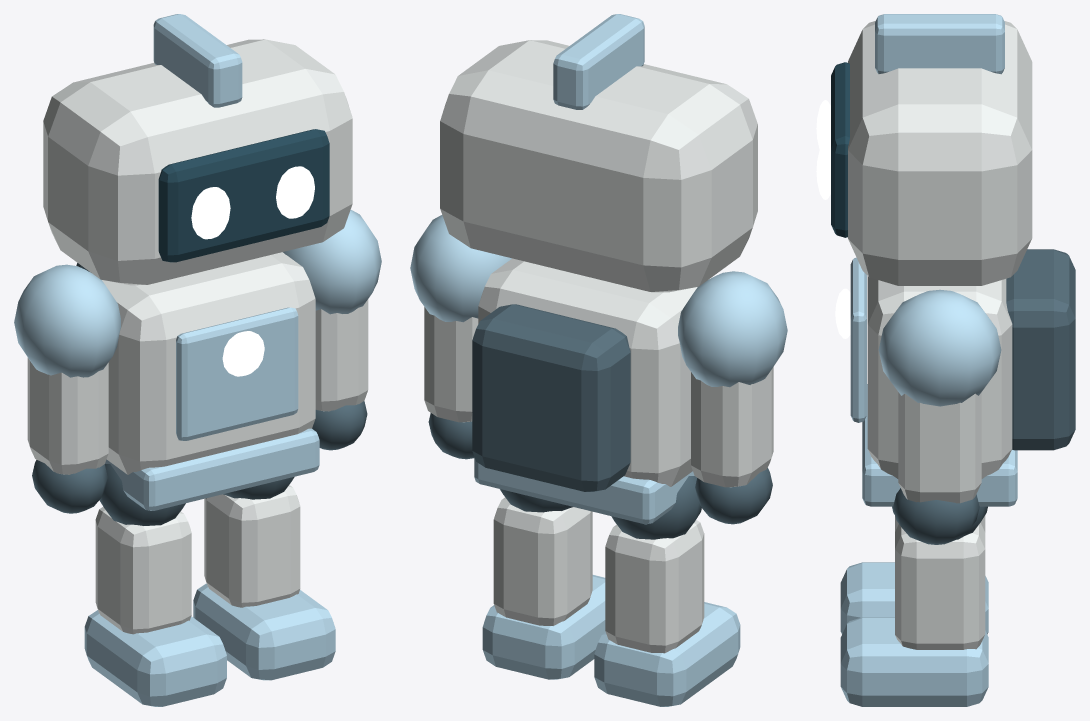
Rendered from echo.glb.
3 renders of one model, left to right at view 1: azimuth 30°, elevation 25°; view 2: azimuth 150°, elevation 25°; view 3: azimuth 270°, elevation 25°, orthographic. The views are drawn at different scales.
Parts seen in each view (by area): view 1: Head, Torso, Visor, Chest plate, Leg.005, Leg, Boot.005, Shoulder.005, Boot, Belt, Arm.005, Shoulder (+9 smaller); view 2: Head, Pack, Torso, Leg.005, Leg, Shoulder.005, Boot.005, Arm.005, Boot, Shoulder, Crest, Belt (+5 smaller); view 3: Head, Pack, Shoulder, Torso, Boot, Leg, Arm, Crest, Belt, Boot.005, Hand, Visor (+4 smaller).
Boxes of the visible parts, <box> form: Head: <box>43,39,352,285</box>; Torso: <box>102,252,315,474</box>; Visor: <box>158,129,329,262</box>; Chest plate: <box>176,307,298,440</box>; Leg.005: <box>95,507,191,634</box>; Leg: <box>204,485,300,607</box>; Boot.005: <box>84,610,226,706</box>; Shoulder.005: <box>14,264,120,377</box>; Boot: <box>193,583,335,680</box>; Belt: <box>105,428,319,510</box>; Arm.005: <box>27,357,108,474</box>; Shoulder: <box>283,210,381,314</box>; Head: <box>440,40,757,292</box>; Pack: <box>472,304,630,491</box>; Torso: <box>478,258,697,486</box>; Leg.005: <box>605,520,704,653</box>; Leg: <box>493,497,592,625</box>; Shoulder.005: <box>678,271,787,387</box>; Boot.005: <box>594,602,740,706</box>; Arm.005: <box>691,367,773,487</box>; Boot: <box>482,575,605,679</box>; Shoulder: <box>410,215,511,322</box>; Crest: <box>553,14,644,109</box>; Belt: <box>474,457,694,524</box>; Head: <box>848,21,1032,285</box>; Pack: <box>1006,249,1075,450</box>; Shoulder: <box>878,289,1001,406</box>; Torso: <box>867,276,1012,478</box>; Boot: <box>840,617,988,706</box>; Leg: <box>895,523,985,649</box>; Arm: <box>898,392,981,503</box>; Crest: <box>875,14,1004,74</box>; Belt: <box>862,384,1017,506</box>; Boot.005: <box>840,562,988,634</box>; Hand: <box>893,488,979,544</box>; Visor: <box>831,62,849,237</box>.
Bounding box in the file's own units: 1.16 × 1.98 × 0.717.
